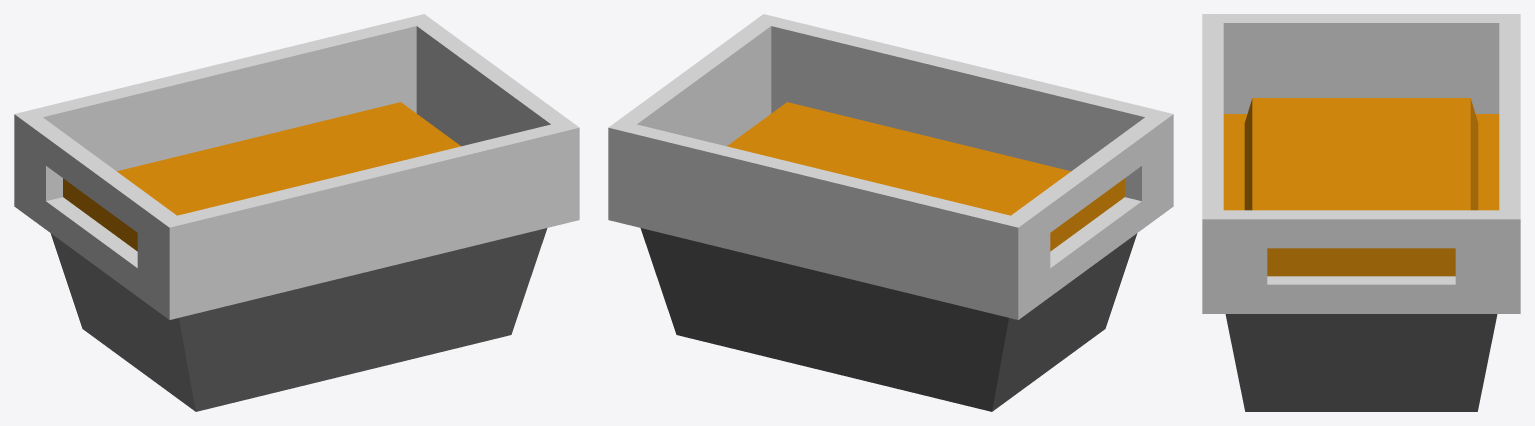
The model's file is basket_1_layer.fbx.
3 renders of one model, left to right at view 1: azimuth 30°, elevation 25°; view 2: azimuth 150°, elevation 25°; view 3: azimuth 270°, elevation 25°, orthographic. The views are drawn at different scales.
Parts seen in each view (by area): view 1: pCube1; view 2: pCube1; view 3: pCube1.
Part boxes in pixels (x1,y1,x2,y2): pCube1: (14, 14, 579, 411); pCube1: (608, 14, 1173, 411); pCube1: (1202, 14, 1520, 411).
Bounding box in the file's own units: 3.72 × 1.83 × 2.44.
